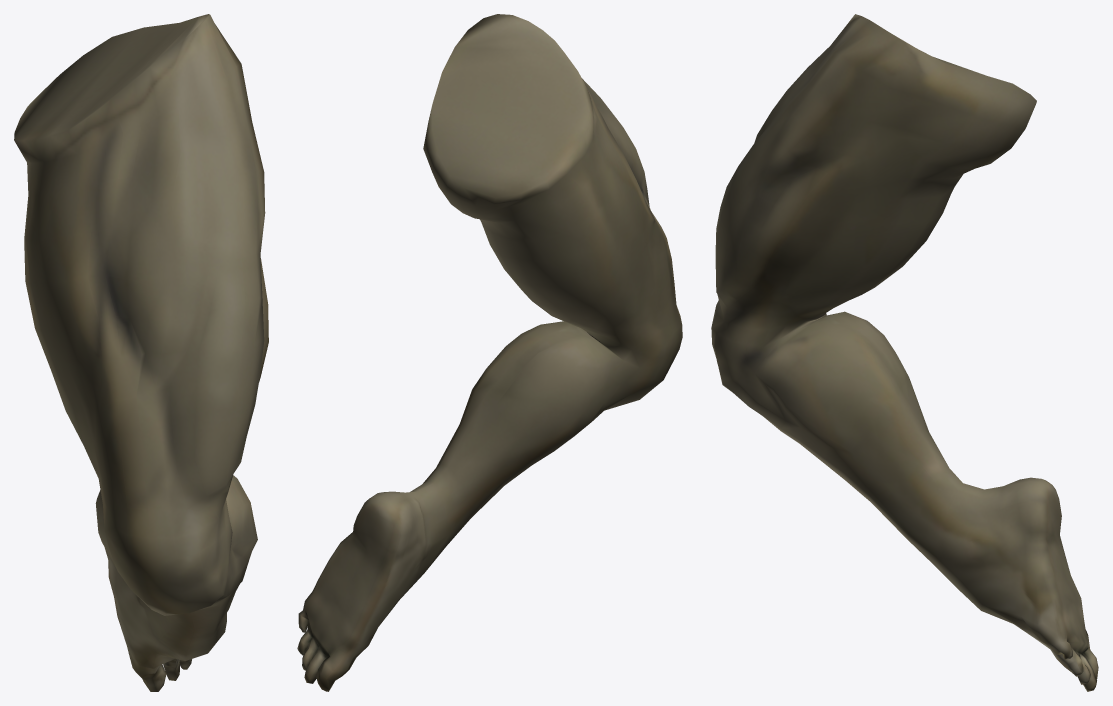
File: tripo-leg-five.glb
The picture shows the model from 3 angles, left to right: view 1: azimuth 30°, elevation 25°; view 2: azimuth 150°, elevation 25°; view 3: azimuth 270°, elevation 25°; orthographic projection. The views are drawn at different scales.
Visible parts, largest first — view 1: tripo-leg-five; view 2: tripo-leg-five; view 3: tripo-leg-five.
Boxes of the visible parts, x1,y1,x2,y2 form: tripo-leg-five: (14, 14, 268, 691); tripo-leg-five: (297, 14, 682, 691); tripo-leg-five: (711, 14, 1098, 691).
Bounding box in the file's own units: 0.2772 × 0.6986 × 0.3862.
Materials: 1 (1 with a texture image).
